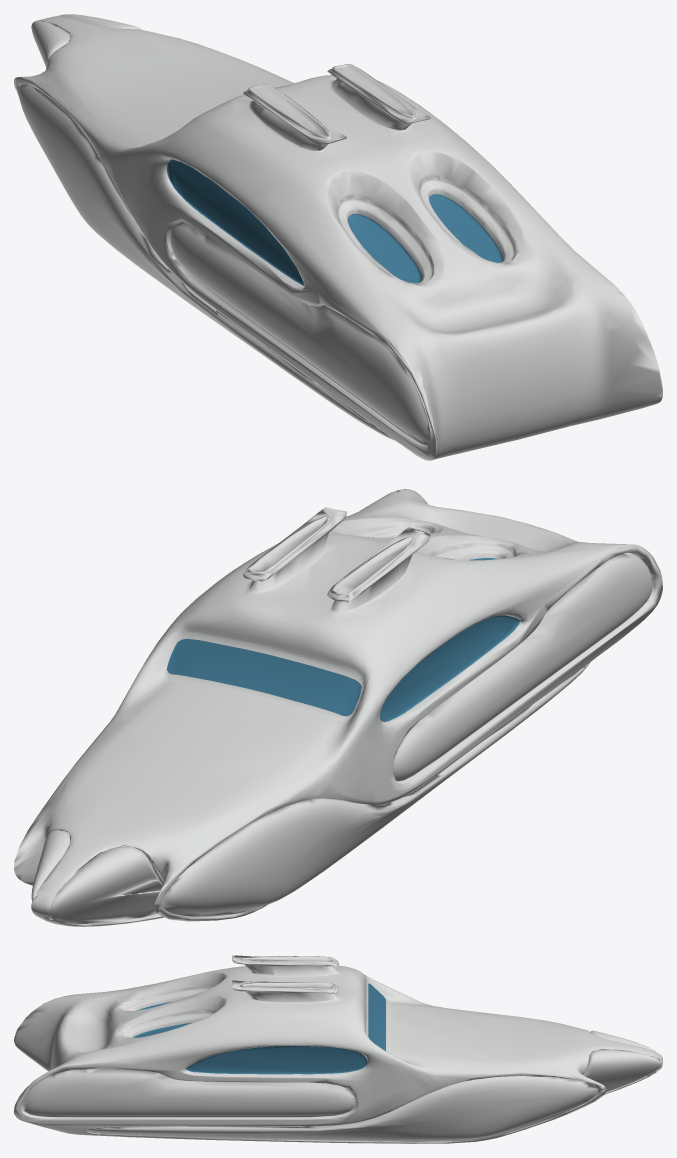
File: sf_futuristic.glb
3 renders of one model, top to bottom at view 1: azimuth 30°, elevation 25°; view 2: azimuth 150°, elevation 25°; view 3: azimuth 270°, elevation 25°, orthographic. The views are drawn at different scales.
Parts seen in each view (by area): view 1: Futuristic Speedboat_Hull_0, Futuristic Speedboat_Windows_0; view 2: Futuristic Speedboat_Hull_0, Futuristic Speedboat_Windows_0; view 3: Futuristic Speedboat_Hull_0, Futuristic Speedboat_Windows_0.
Part boxes in pixels (box(x1,y1,x2,y2)): Futuristic Speedboat_Hull_0: box(14, 14, 662, 460); Futuristic Speedboat_Windows_0: box(167, 159, 503, 285); Futuristic Speedboat_Hull_0: box(14, 489, 662, 926); Futuristic Speedboat_Windows_0: box(167, 558, 519, 721); Futuristic Speedboat_Hull_0: box(14, 955, 662, 1143); Futuristic Speedboat_Windows_0: box(132, 983, 385, 1074).
Bounding box in the file's own units: 2.18 × 2.05 × 8.
